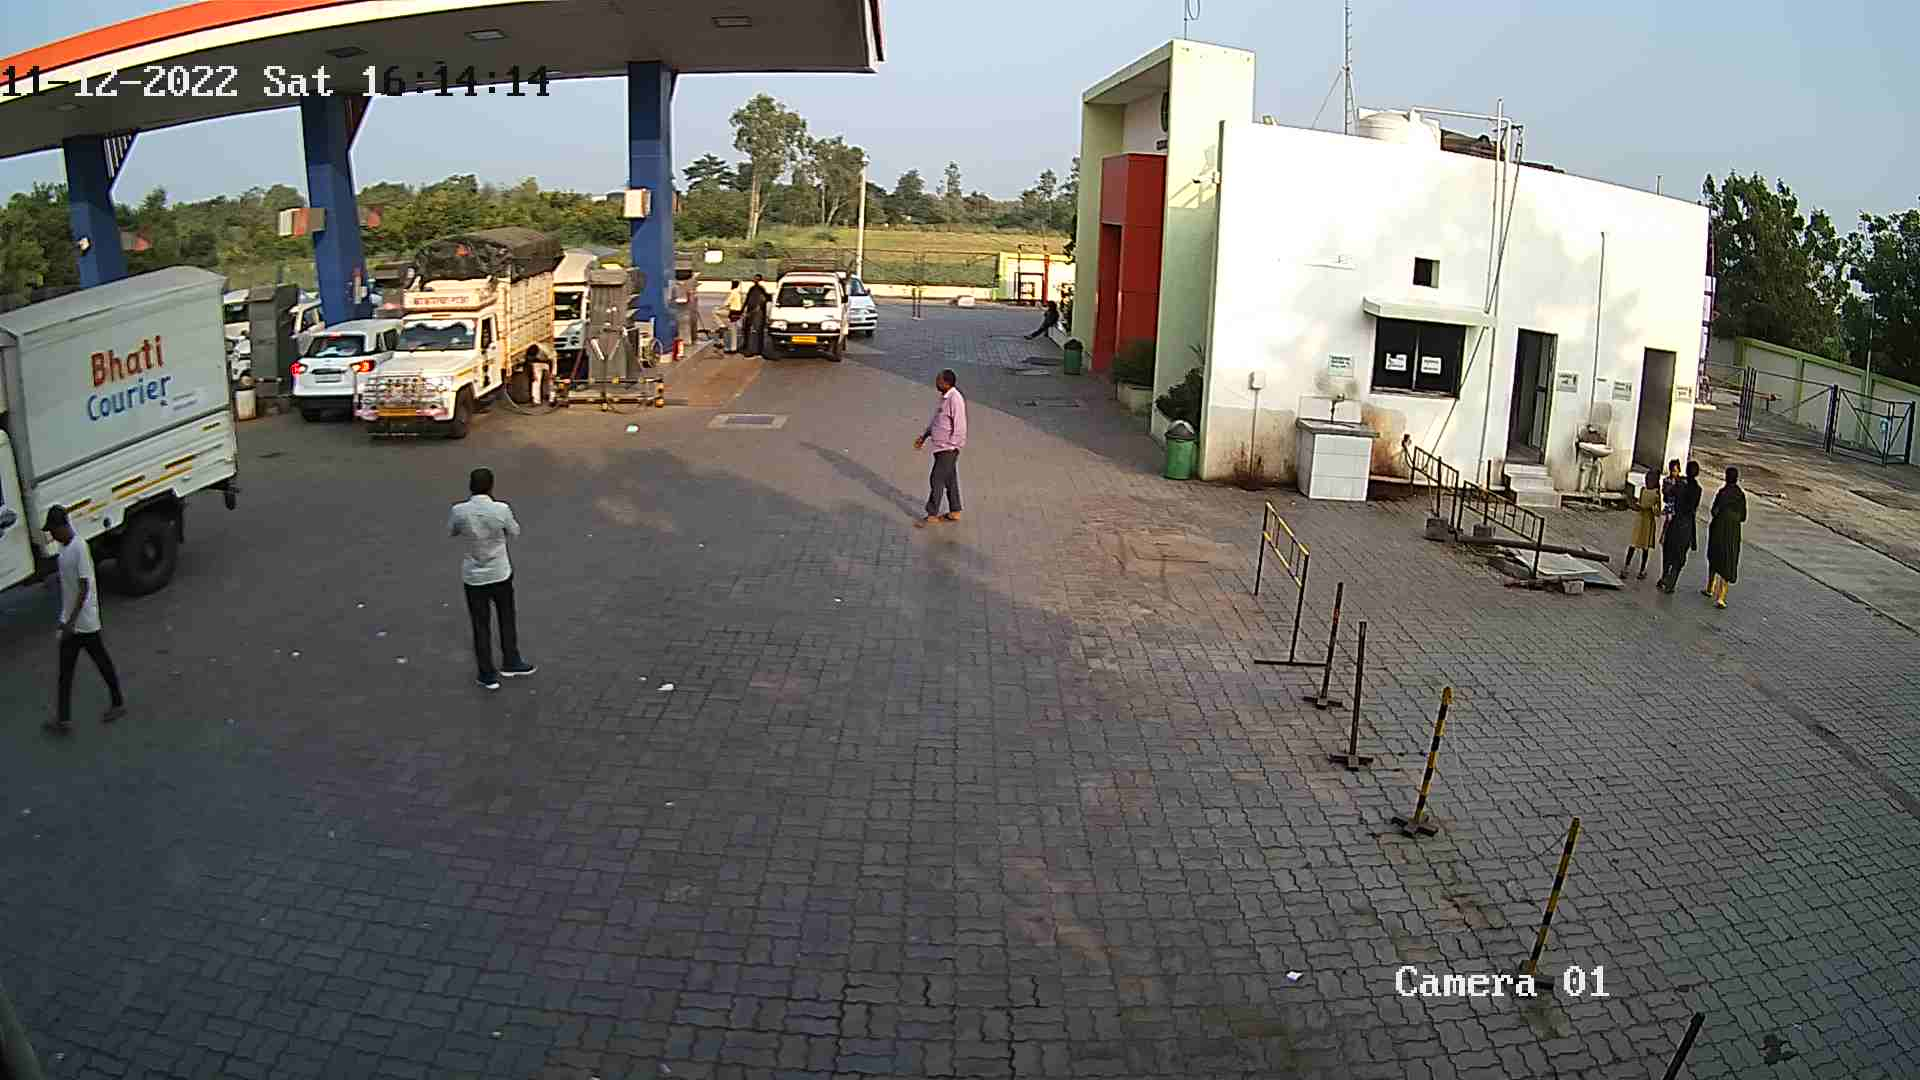Car: (0, 260, 251, 603), (340, 220, 571, 443), (281, 299, 405, 427), (740, 241, 864, 361), (539, 241, 613, 389), (277, 281, 327, 378), (827, 260, 884, 342), (211, 278, 262, 361)
